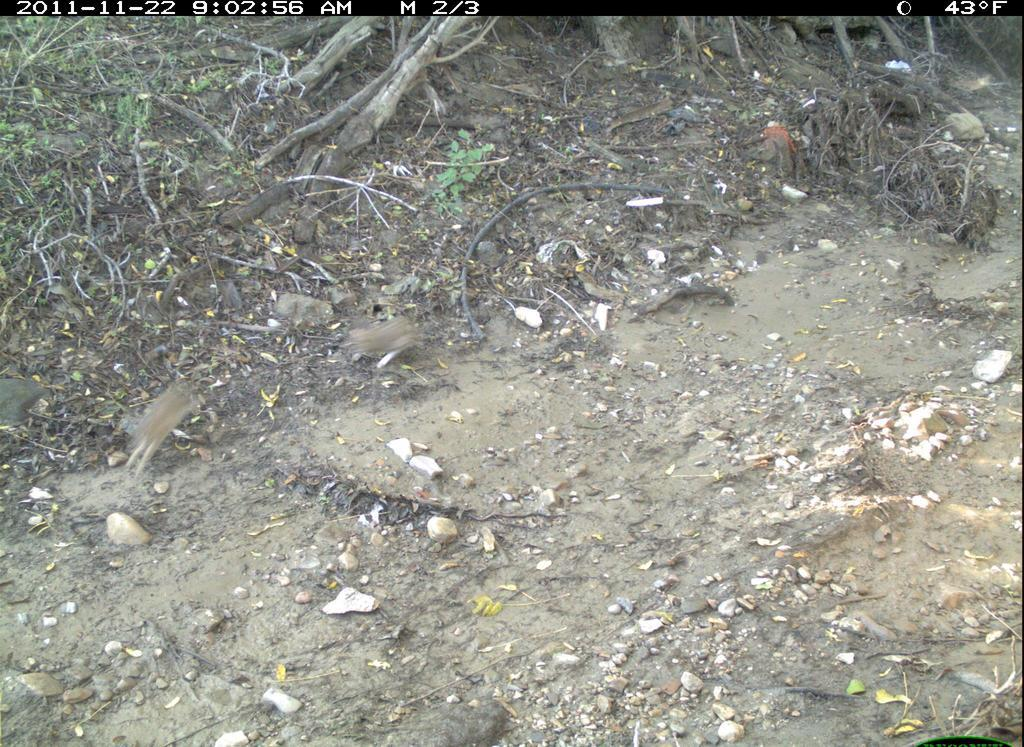rabbit: (98, 369, 232, 482), (326, 305, 442, 390)
